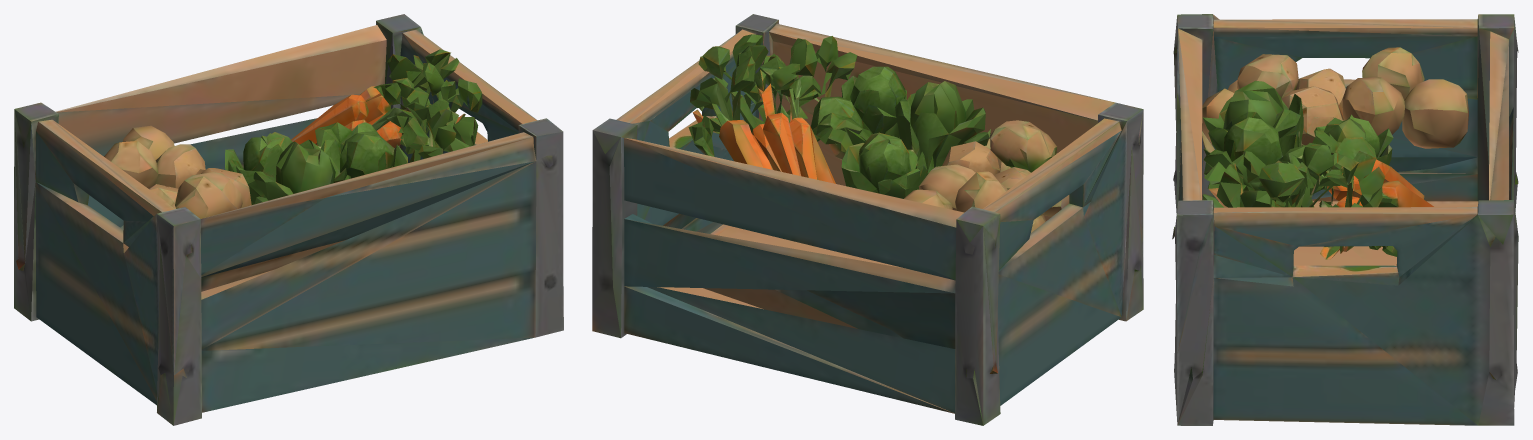
File: produceCrate.glb
3 renders of one model, left to right at view 1: azimuth 30°, elevation 25°; view 2: azimuth 150°, elevation 25°; view 3: azimuth 270°, elevation 25°, orthographic. The views are drawn at different scales.
Parts seen in each view (by area): view 1: Mesh_0; view 2: Mesh_0; view 3: Mesh_0.
Part boxes in pixels (bbox=[...]): Mesh_0: bbox=[14, 14, 563, 425]; Mesh_0: bbox=[592, 14, 1143, 425]; Mesh_0: bbox=[1172, 14, 1518, 425].
Bounding box in the file's own units: 0.5626 × 0.3166 × 0.4.
Materials: 1 (1 with a texture image).
